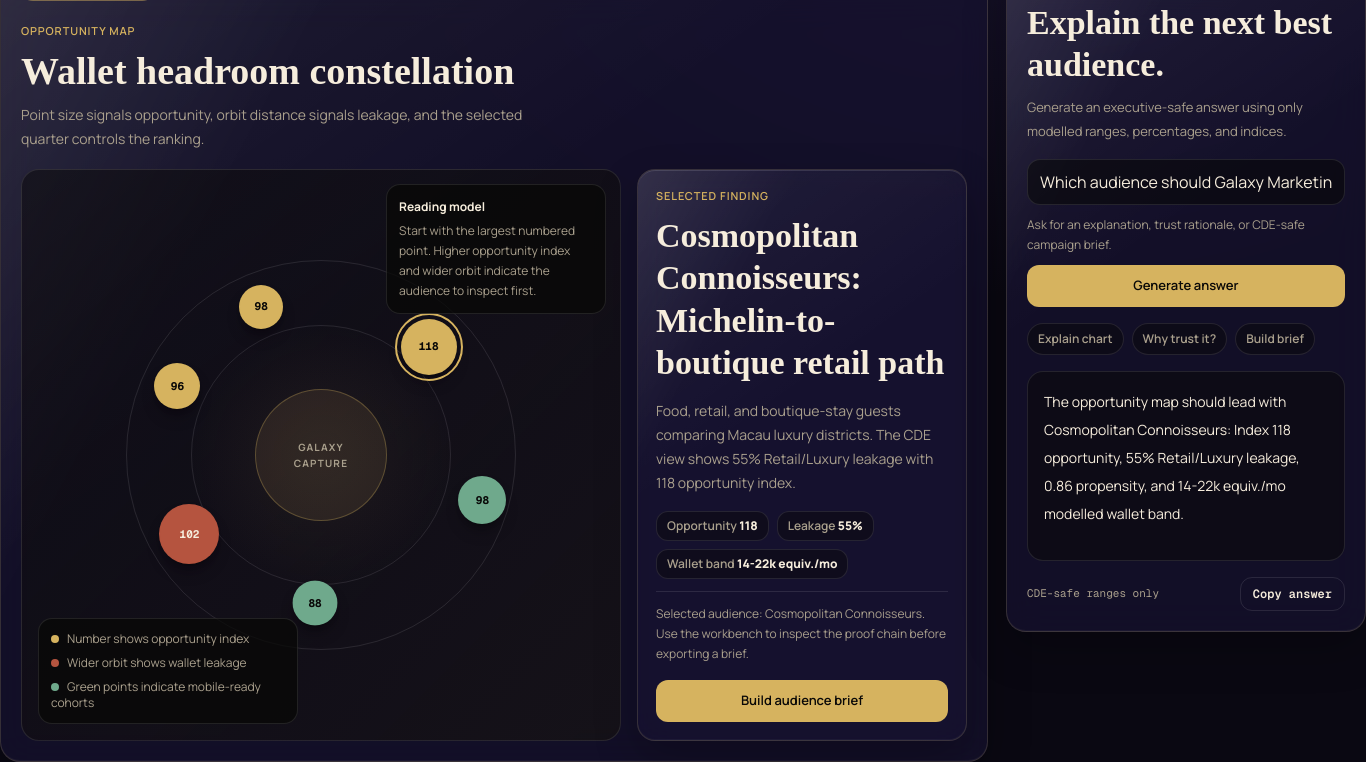
DecisionWorkspace › builds an audience brief and keeps generated assistant copy CDE-safe
(page scrolled)
Click the button "Build audience brief": (802, 700) [656,680,948,722]
(page scrolled)
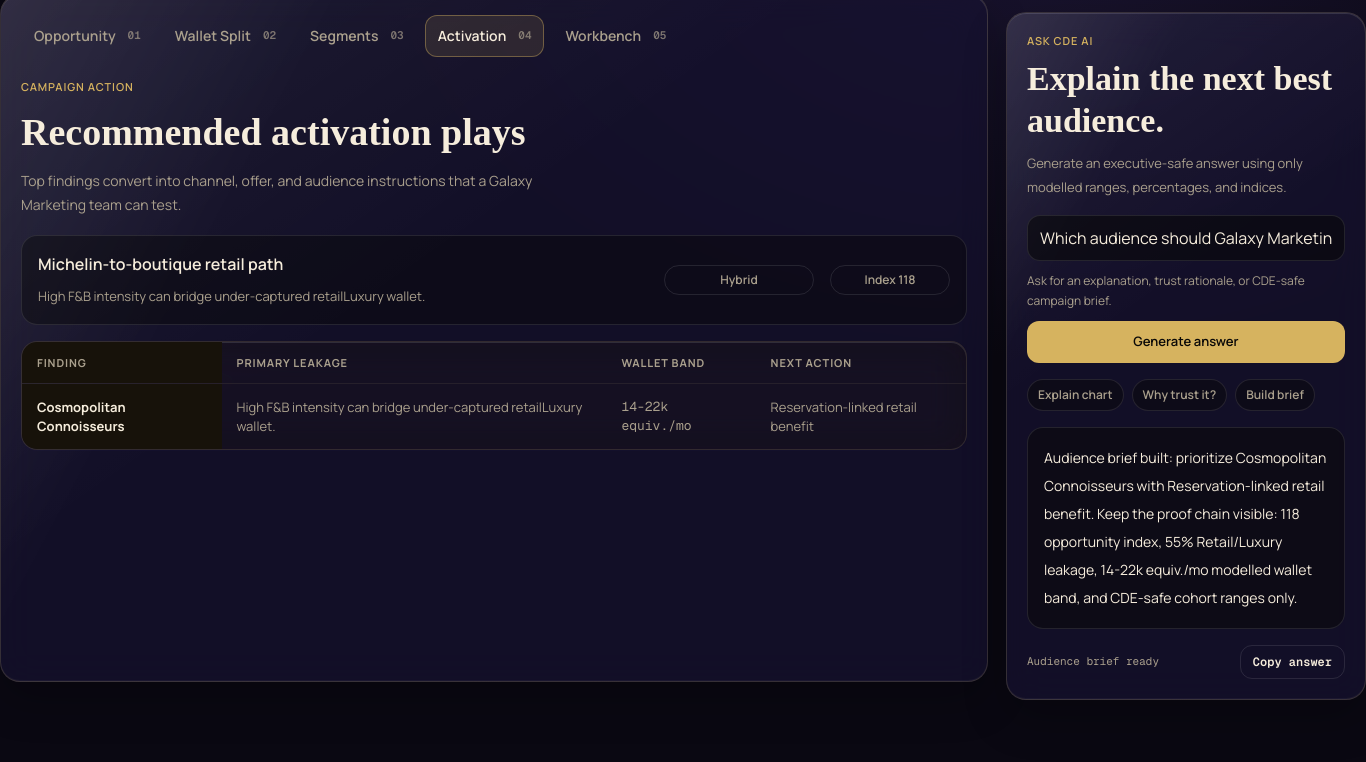
Check: the panel "activation" is shown, box [21,79,967,450]
Check: the element labelled "Ask CDE AI" shows "Audience brief built", box [1044,448,1326,606]
Check: the element labelled "Ask CDE AI" shows "Audience brief ready", box [1027,654,1159,668]
